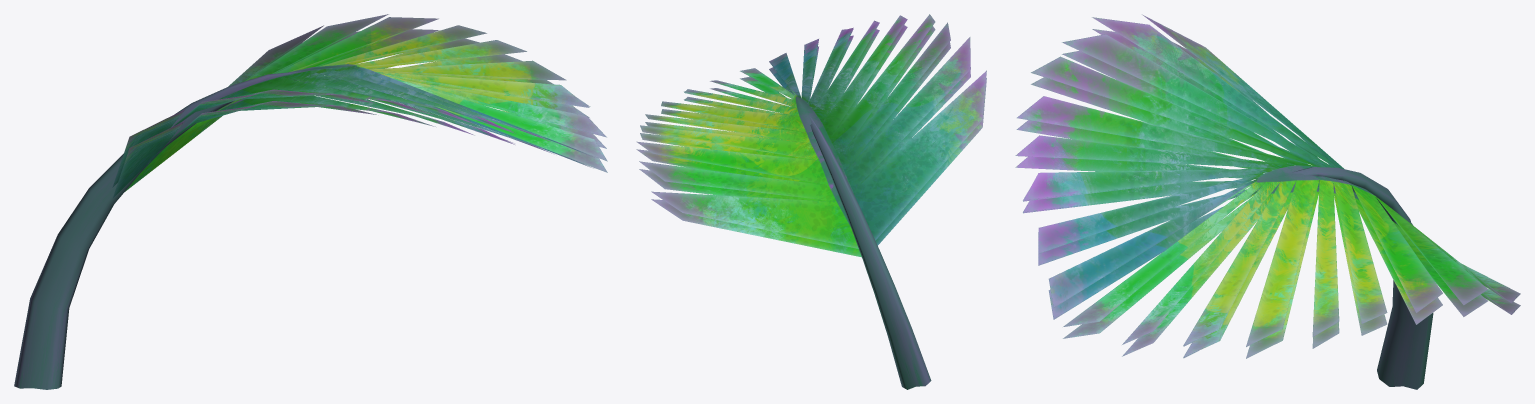
Rendered from tropicalLeaf2.fbx.
The picture shows the model from 3 angles, left to right: view 1: azimuth 30°, elevation 25°; view 2: azimuth 150°, elevation 25°; view 3: azimuth 270°, elevation 25°; orthographic projection. The views are drawn at different scales.
Visible parts, largest first — view 1: leaf8; view 2: leaf8; view 3: leaf8.
Part boxes in pixels (left/top/right/bottom): leaf8: left=14, top=14, right=607, bottom=389; leaf8: left=636, top=14, right=986, bottom=389; leaf8: left=1015, top=14, right=1520, bottom=389.
Size of the model in its own units: 1.32 by 1.04 by 1.19.
